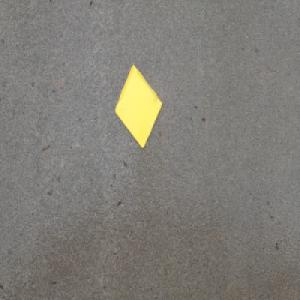PlasticPart: (114, 63, 163, 149)
